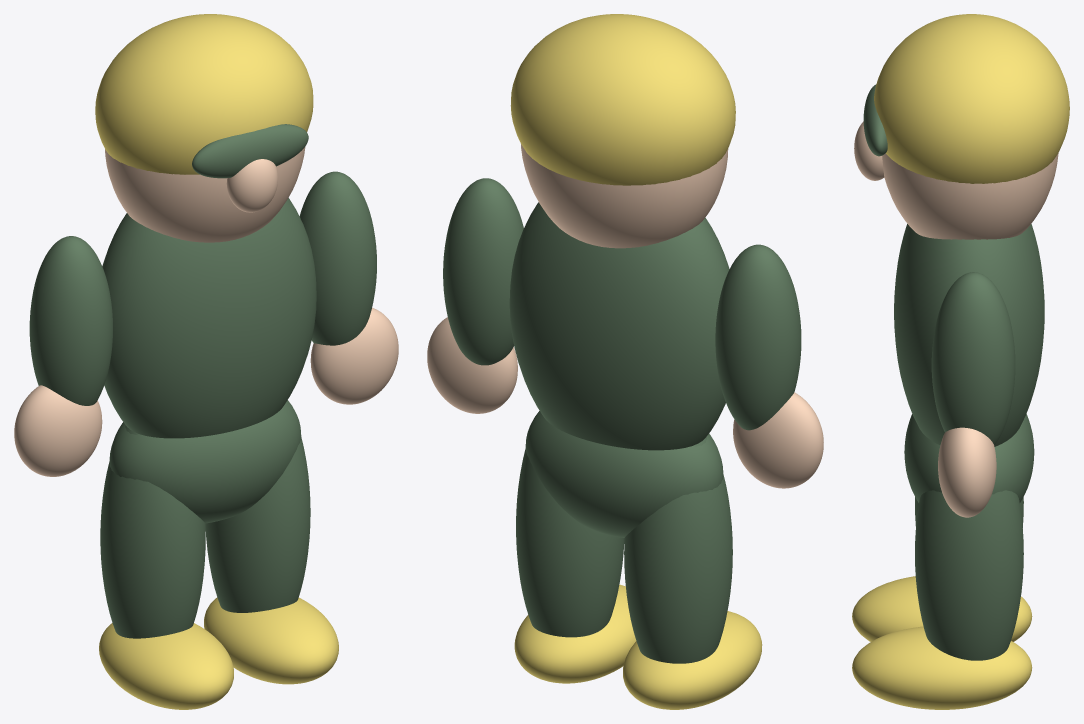
The model's file is Wonder_Warden.glb.
3 renders of one model, left to right at view 1: azimuth 30°, elevation 25°; view 2: azimuth 150°, elevation 25°; view 3: azimuth 270°, elevation 25°, orthographic. The views are drawn at different scales.
Visible parts, largest first — view 1: Torso, Warden_Helmet, Leg_-1, Pelvis, ArmUpper_-1, Leg_1, ArmUpper_1, Head, Shoe_-1, Shoe_1, Hand_-1, Hand_1 (+2 smaller); view 2: Torso, Warden_Helmet, Leg_-1, Pelvis, ArmUpper_-1, Leg_1, ArmUpper_1, Head, Shoe_-1, Shoe_1, Hand_-1, Hand_1; view 3: Warden_Helmet, Torso, Leg_1, ArmUpper_1, Shoe_1, Head, Pelvis, Hand_1, Shoe_-1, Warden_Visor, Nose.
Boxes of the visible parts, x1=… form: Torso: x1=102, y1=198, x2=316, y2=438; Warden_Helmet: x1=95, y1=14, x2=313, y2=174; Leg_-1: x1=100, y1=425, x2=205, y2=638; Pelvis: x1=109, y1=400, x2=301, y2=523; ArmUpper_-1: x1=29, y1=236, x2=112, y2=405; Leg_1: x1=205, y1=437, x2=310, y2=612; ArmUpper_1: x1=299, y1=171, x2=376, y2=345; Head: x1=105, y1=147, x2=305, y2=242; Shoe_-1: x1=99, y1=623, x2=233, y2=709; Shoe_1: x1=204, y1=597, x2=338, y2=684; Hand_-1: x1=14, y1=385, x2=102, y2=476; Hand_1: x1=310, y1=307, x2=398, y2=404; Torso: x1=509, y1=202, x2=729, y2=450; Warden_Helmet: x1=510, y1=14, x2=735, y2=185; Leg_-1: x1=624, y1=437, x2=732, y2=663; Pelvis: x1=525, y1=411, x2=723, y2=537; ArmUpper_-1: x1=715, y1=244, x2=801, y2=430; Leg_1: x1=516, y1=449, x2=624, y2=637; ArmUpper_1: x1=443, y1=178, x2=523, y2=365; Head: x1=521, y1=144, x2=728, y2=248; Shoe_-1: x1=623, y1=611, x2=762, y2=709; Shoe_1: x1=514, y1=584, x2=636, y2=683; Hand_-1: x1=733, y1=392, x2=823, y2=488; Hand_1: x1=427, y1=317, x2=517, y2=413; Warden_Helmet: x1=874, y1=14, x2=1069, y2=183; Torso: x1=894, y1=224, x2=1044, y2=446; Leg_1: x1=915, y1=490, x2=1023, y2=660; ArmUpper_1: x1=931, y1=272, x2=1015, y2=445; Shoe_1: x1=852, y1=626, x2=1032, y2=709; Head: x1=882, y1=153, x2=1058, y2=239; Pelvis: x1=904, y1=414, x2=1034, y2=502; Hand_1: x1=938, y1=427, x2=996, y2=517; Shoe_-1: x1=852, y1=576, x2=1032, y2=641; Warden_Visor: x1=863, y1=84, x2=887, y2=156; Nose: x1=854, y1=121, x2=884, y2=180.
Bounding box in the file's own units: 2.1 × 3.42 × 1.04.
